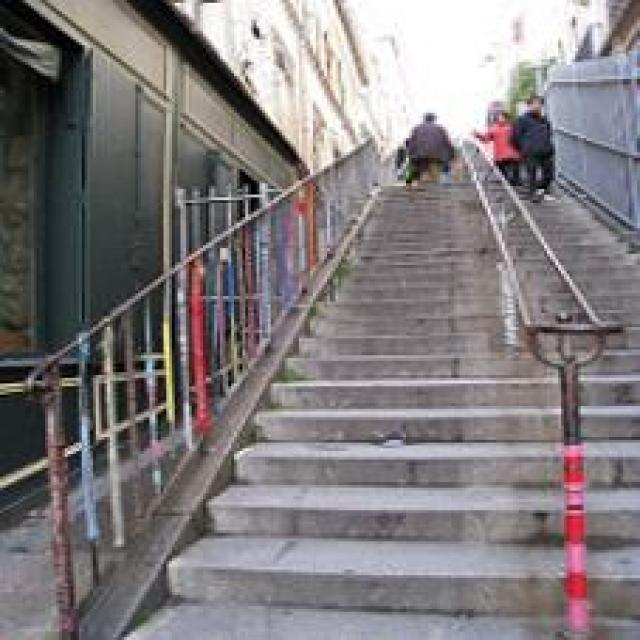stair: (181, 367, 559, 592)
